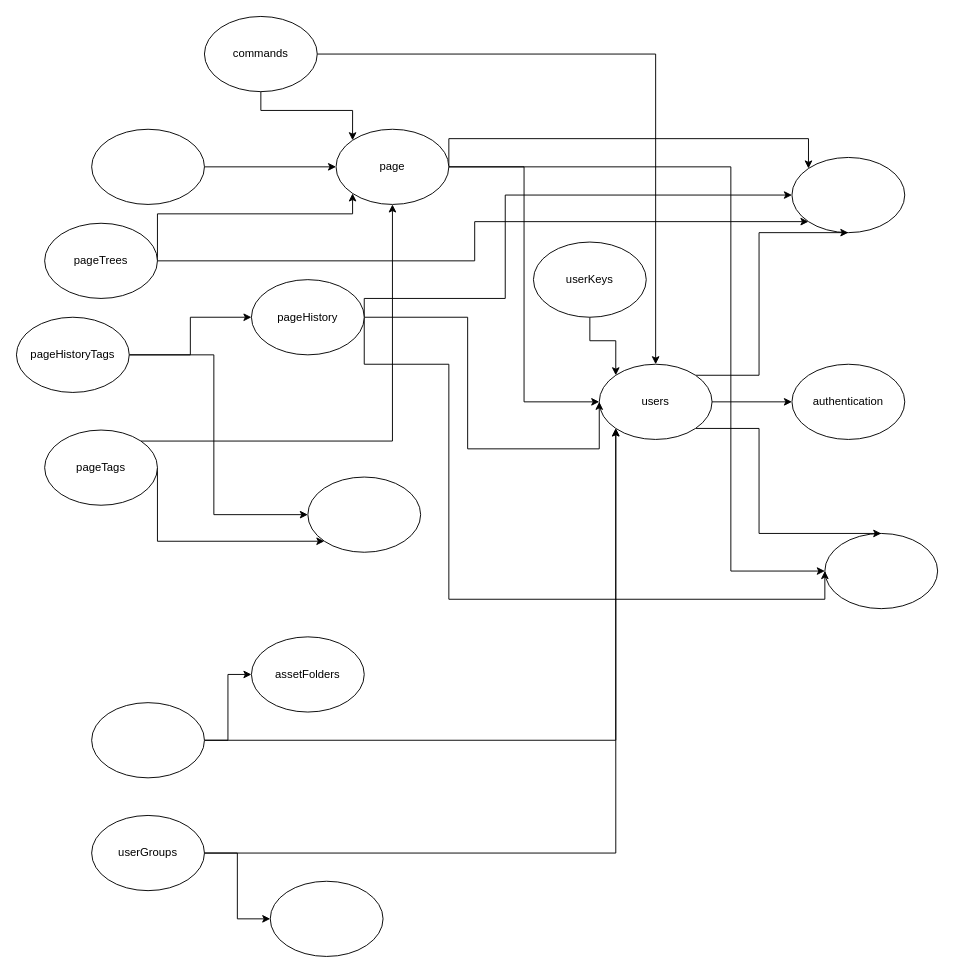
The diagram is 954 pixels wide and 973 high, and some of its shapes have lost their labels. The centre of each missing label's shape, as x and y in pixels:
"assets" belongs at point 147,740.
"editors" belongs at point 881,571.
"groups" belongs at point 326,918.
"locales" belongs at point 848,195.
"pagelinks" belongs at point 147,166.
"tags" belongs at point 364,514.
